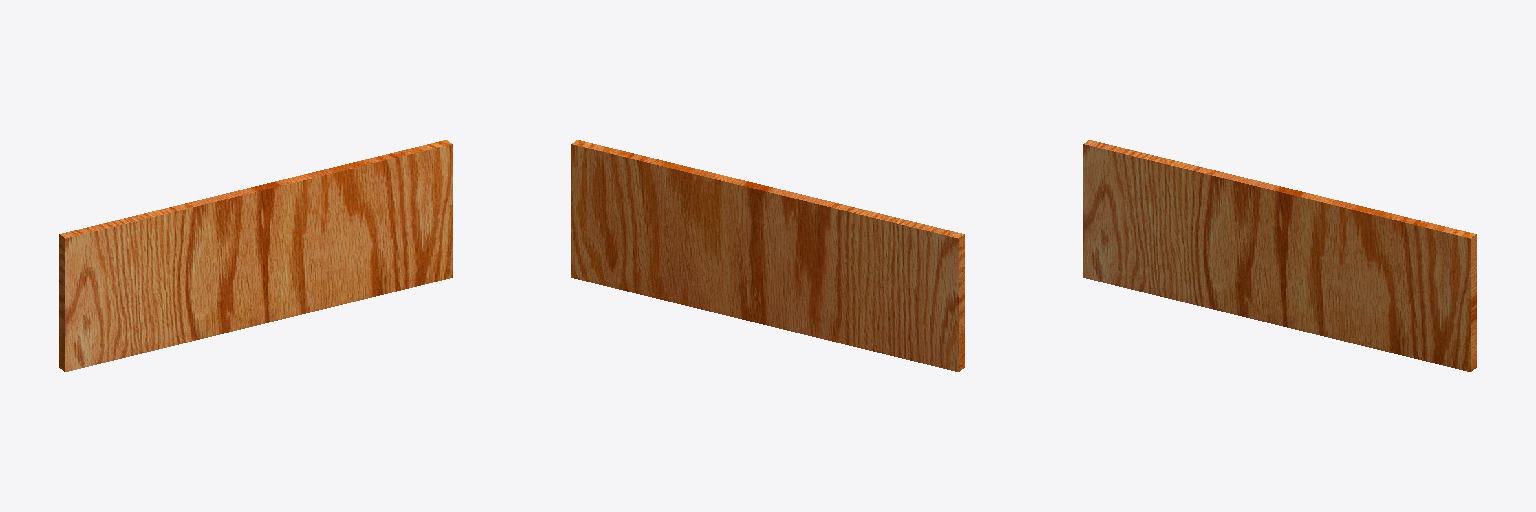
3 views of the same model, side by side, from view 1: azimuth 30°, elevation 25°; view 2: azimuth 150°, elevation 25°; view 3: azimuth 330°, elevation 25° (orthographic).
Parts seen in each view (by area): view 1: model_model.028; view 2: model_model.028; view 3: model_model.028.
Part boxes in pixels (x1,y1,x2,y2): model_model.028: (59, 140, 452, 371); model_model.028: (571, 140, 964, 371); model_model.028: (1083, 140, 1476, 371).
Bounding box in the file's own units: 0.597 × 0.197 × 0.016.
Materials: 1 (1 with a texture image).